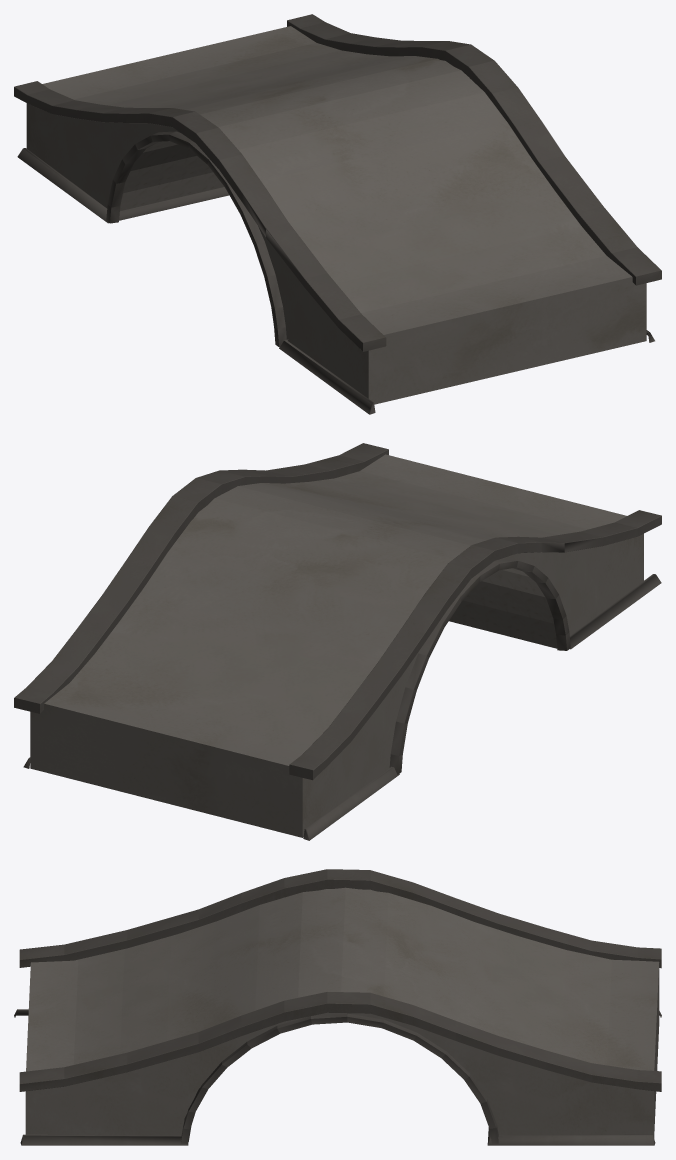
The model's file is Qiao01.fbx.
3 views of the same model, one above another, from view 1: azimuth 30°, elevation 25°; view 2: azimuth 150°, elevation 25°; view 3: azimuth 270°, elevation 25° (orthographic). The views are drawn at different scales.
Parts seen in each view (by area): view 1: qiao01; view 2: qiao01; view 3: qiao01.
Boxes of the visible parts, box(x1,y1,x2,y2) form: qiao01: box(14, 14, 661, 414); qiao01: box(14, 443, 661, 840); qiao01: box(14, 869, 661, 1145).
Size of the model in its own units: 392 by 198 by 799.
